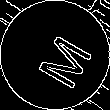M_NW: (22, 23, 88, 87)
